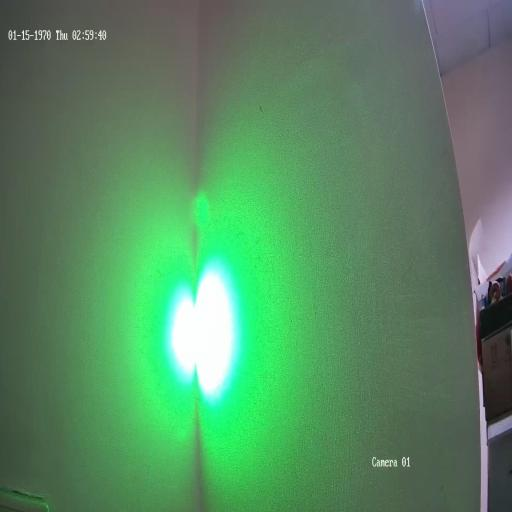laser: (143, 236, 248, 425)
